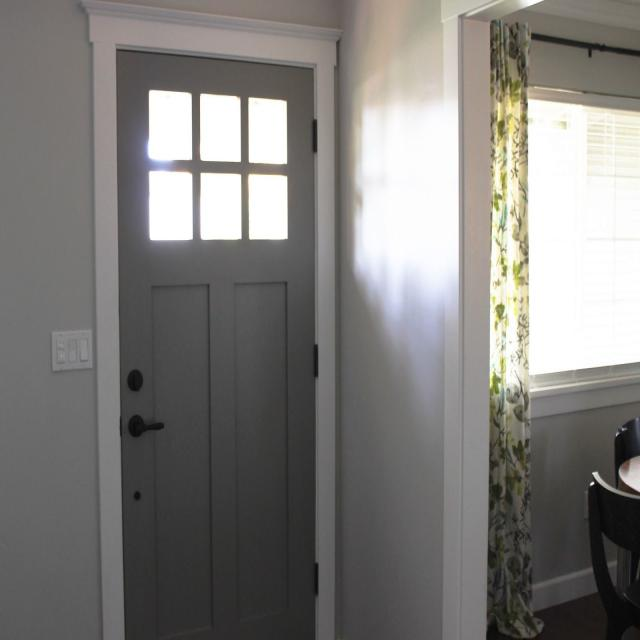ClosedDoor: (117, 37, 330, 639)
OpenDoor: (444, 0, 640, 640)
